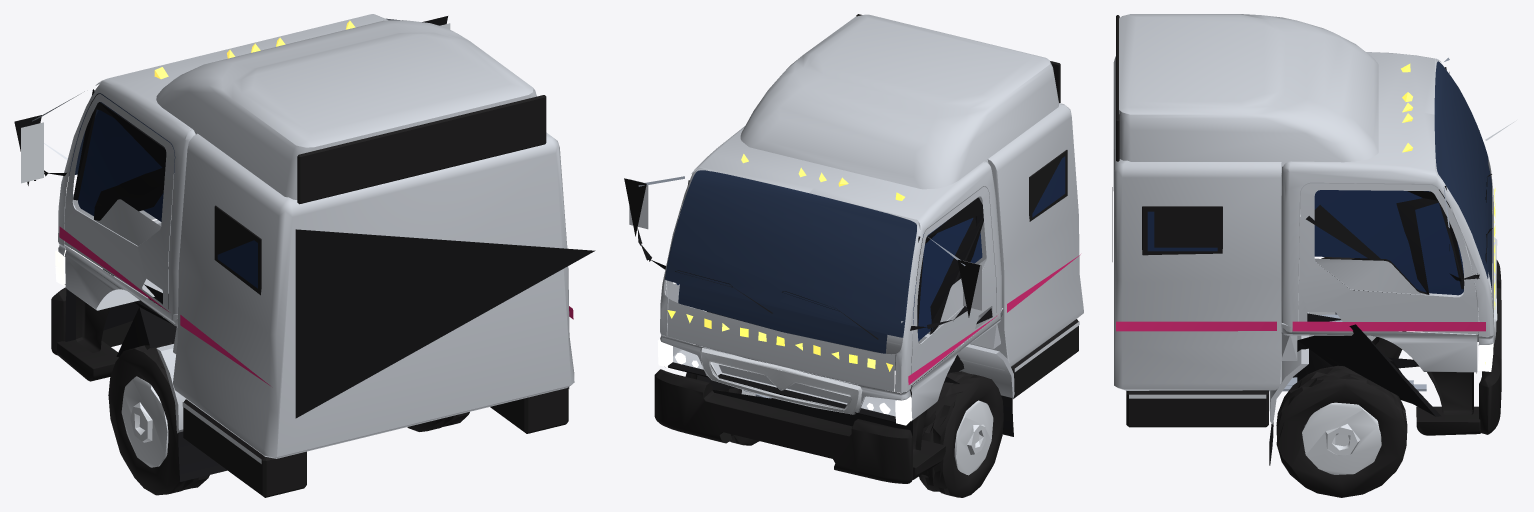
The model's file is cab_chata_lod1.glb.
The picture shows the model from 3 angles, left to right: view 1: azimuth 30°, elevation 25°; view 2: azimuth 150°, elevation 25°; view 3: azimuth 270°, elevation 25°; orthographic projection. The views are drawn at different scales.
Visible parts, largest first — view 1: lod1_paint_white_panel, lod1_plastic_black, lod1_plastic_trim, lod1_rubber_tire, lod1_glass, lod1_chrome, lod1_paint_pink, lod1_rubber; view 2: lod1_paint_white_panel, lod1_glass_wind, lod1_plastic_trim, lod1_plastic_black, lod1_chrome, lod1_rubber_tire, lod1_glass, lod1_lamp_white, lod1_paint_pink, lod1_lamp_amber; view 3: lod1_paint_white_panel, lod1_plastic_trim, lod1_rubber_tire, lod1_glass, lod1_plastic_black, lod1_glass_wind, lod1_chrome, lod1_paint_pink, lod1_lamp_amber.
Boxes of the visible parts, x1,y1,x2,y2 form: lod1_paint_white_panel: (58,14,574,458); lod1_plastic_black: (14,16,595,418); lod1_plastic_trim: (51,95,568,497); lod1_rubber_tire: (108,342,469,495); lod1_glass: (78,103,257,288); lod1_chrome: (21,23,569,467); lod1_paint_pink: (59,226,573,385); lod1_rubber: (177,431,227,481); lod1_paint_white_panel: (660,14,1083,421); lod1_glass_wind: (664,170,916,353); lod1_plastic_trim: (654,14,1078,483); lod1_plastic_black: (624,178,992,436); lod1_chrome: (629,179,1079,475); lod1_rubber_tire: (718,371,1003,497); lod1_glass: (676,156,1065,341); lod1_lamp_white: (657,339,912,425); lod1_paint_pink: (908,254,1080,384); lod1_lamp_amber: (667,154,904,371); lod1_paint_white_panel: (1113,14,1494,424); lod1_plastic_trim: (1116,15,1501,435); lod1_rubber_tire: (1276,257,1407,497); lod1_glass: (1147,190,1463,295); lod1_plastic_black: (1112,67,1492,416); lod1_glass_wind: (1434,61,1492,289); lod1_chrome: (1129,120,1516,474); lod1_paint_pink: (1116,321,1485,331); lod1_lamp_amber: (1401,63,1495,363).
Bounding box in the file's own units: 3.33 × 3.18 × 3.12.
Materials: 13 (4 with a texture image).
